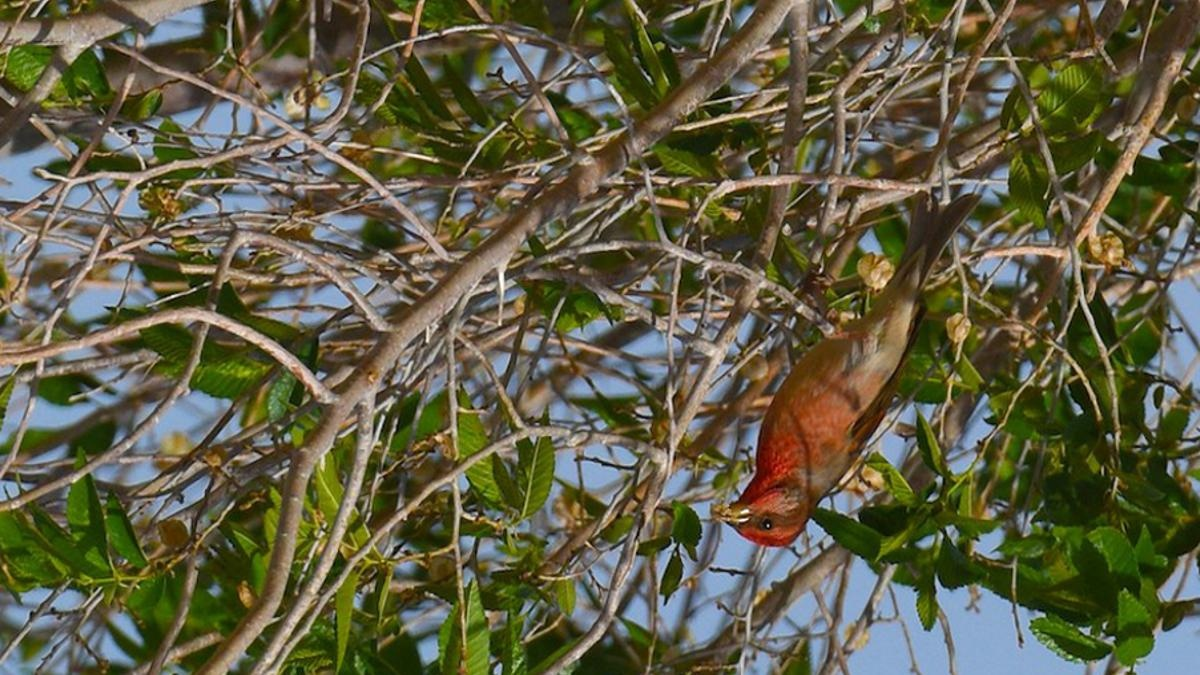rosefinch: (716, 268, 941, 544)
